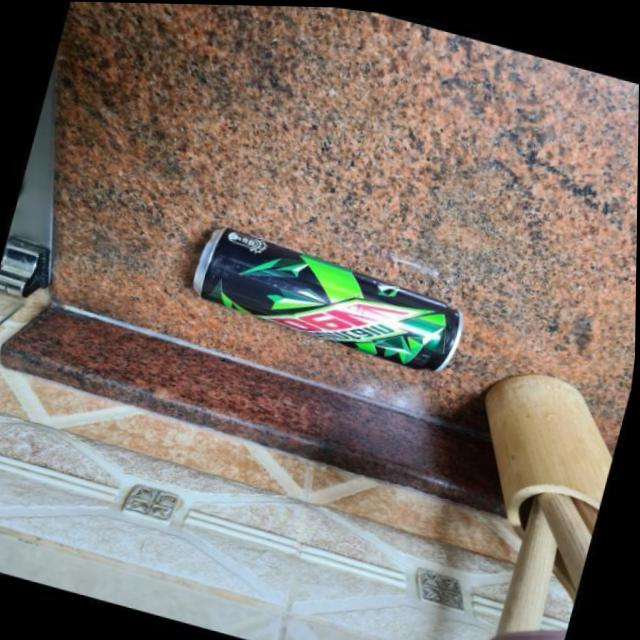metal: (193, 228, 462, 370)
